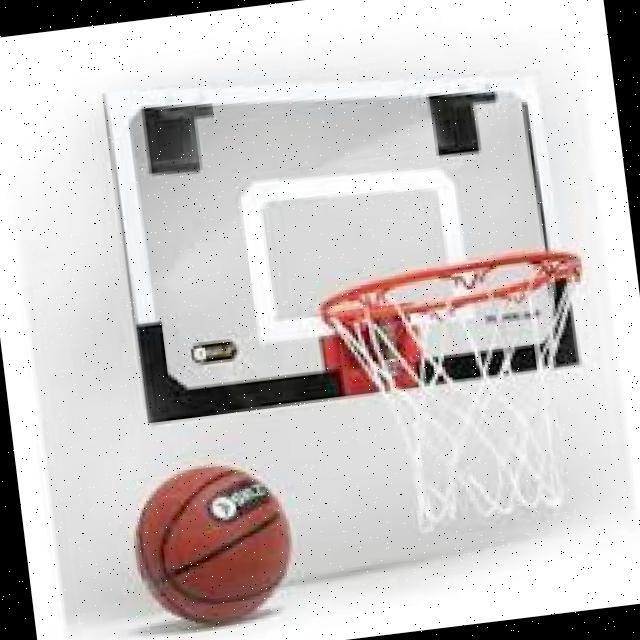ball: (125, 456, 300, 631)
